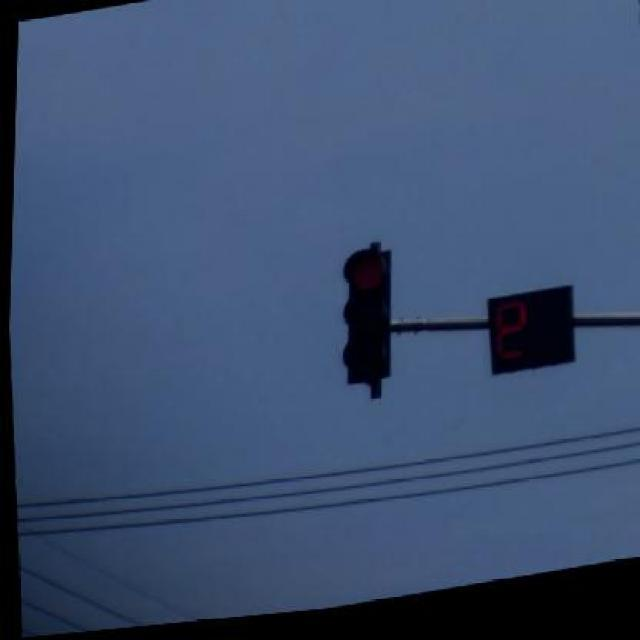red_light: (342, 240, 389, 396)
